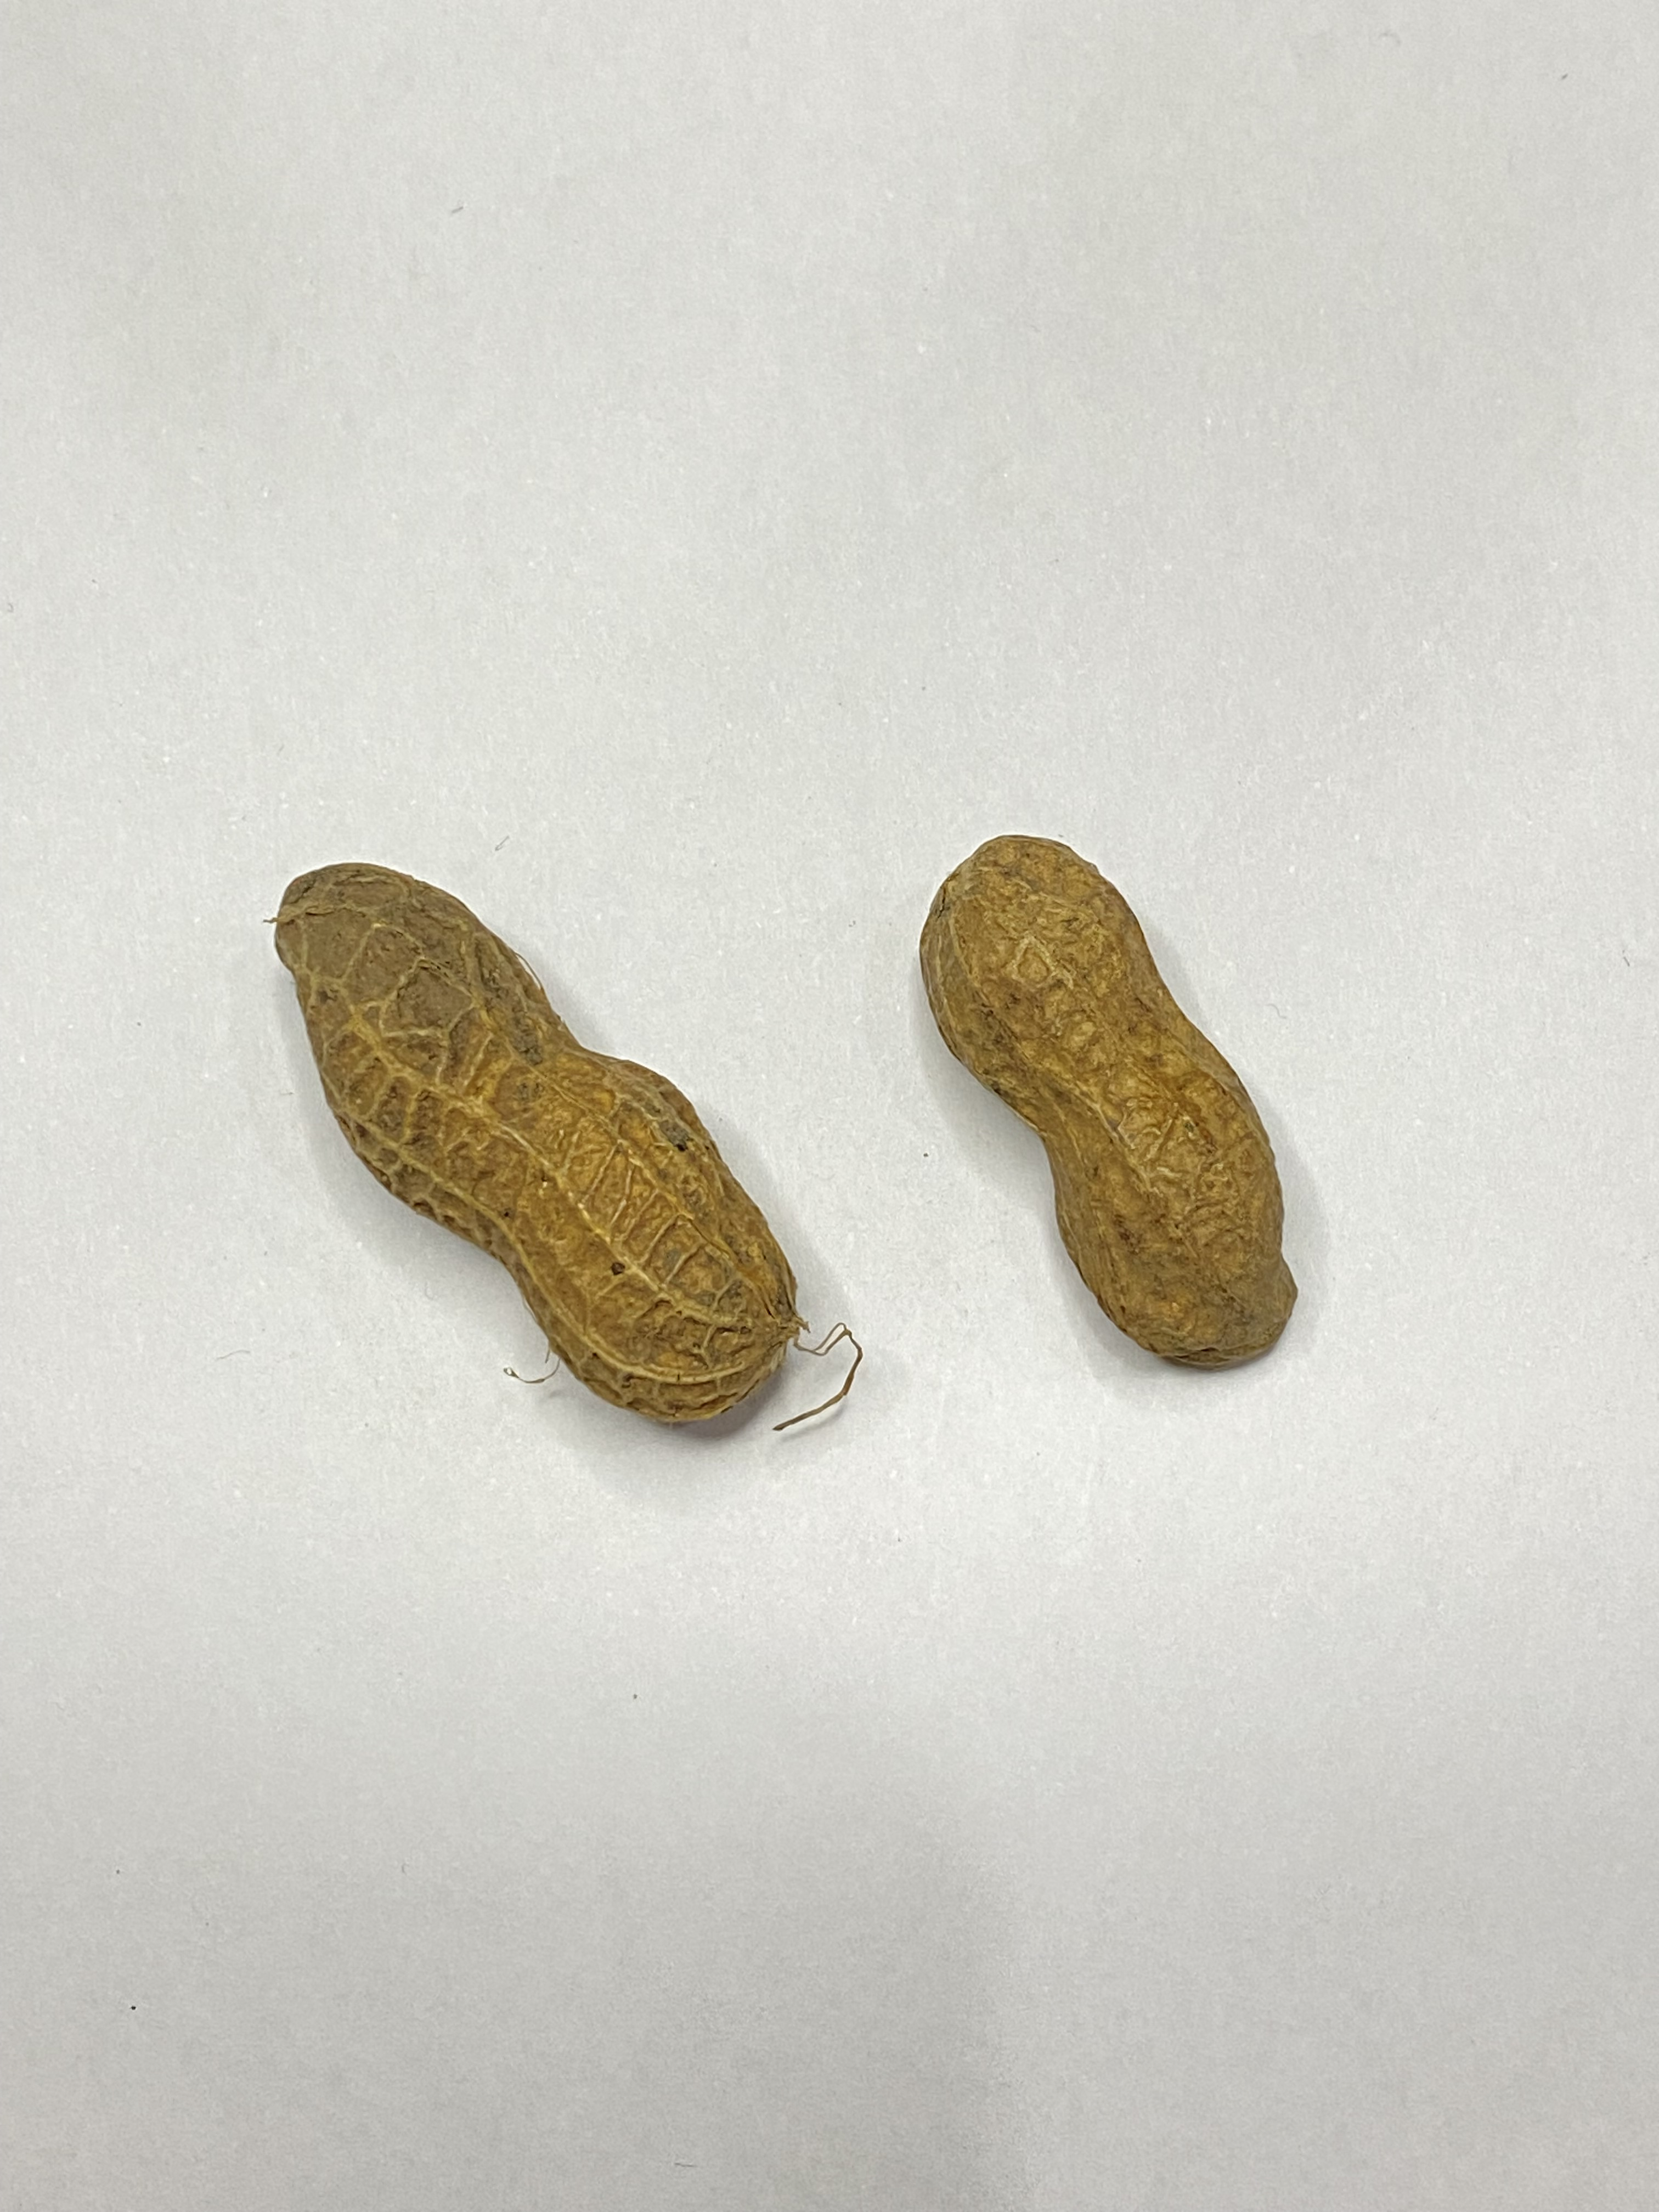kacang2: (242, 848, 817, 1453), (896, 829, 1321, 1372)
